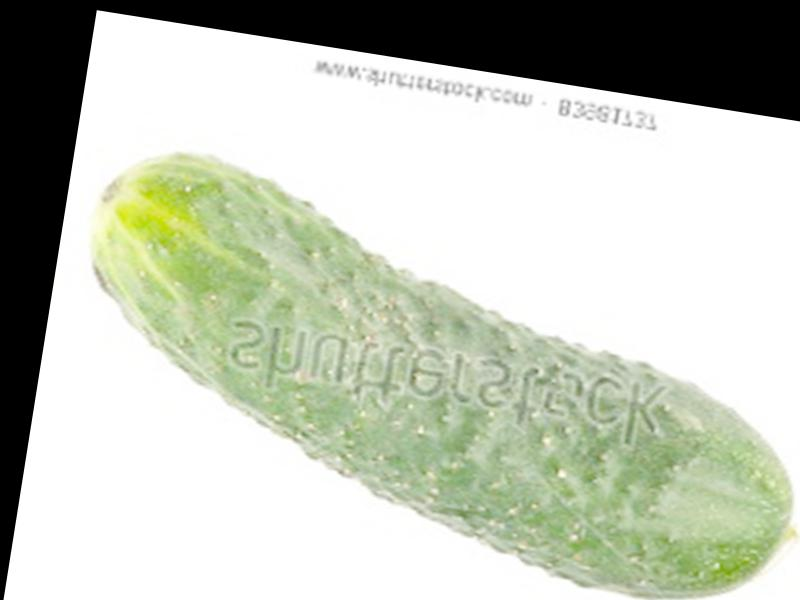Cucumber: (51, 142, 800, 600)
